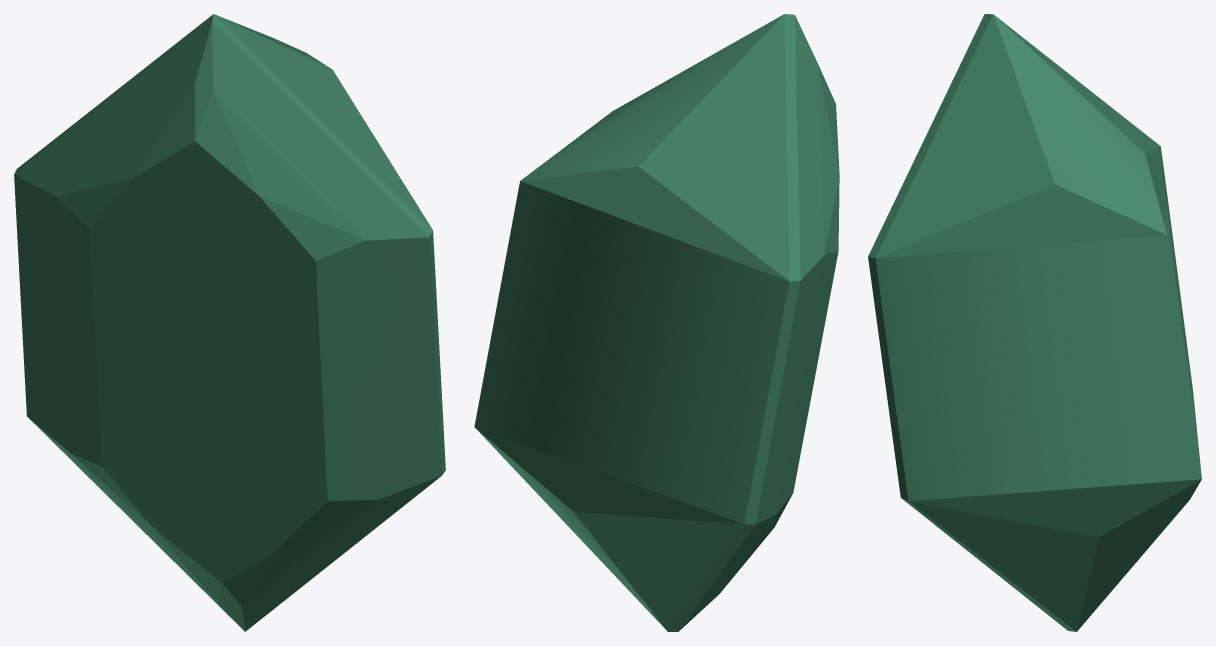
The model's file is TL3_8shapes_Hex_Classic_Stone.001 2.glb.
3 renders of one model, left to right at view 1: azimuth 30°, elevation 25°; view 2: azimuth 150°, elevation 25°; view 3: azimuth 270°, elevation 25°, orthographic. The views are drawn at different scales.
Parts seen in each view (by area): view 1: TL3_8shapes_Hex_Classic_Stone.001; view 2: TL3_8shapes_Hex_Classic_Stone.001; view 3: TL3_8shapes_Hex_Classic_Stone.001.
Boxes of the visible parts, x1,y1,x2,y2 form: TL3_8shapes_Hex_Classic_Stone.001: (14, 14, 445, 631); TL3_8shapes_Hex_Classic_Stone.001: (474, 14, 839, 631); TL3_8shapes_Hex_Classic_Stone.001: (868, 14, 1201, 631).
Size of the model in its own units: 0.3972 by 0.765 by 0.3958.
